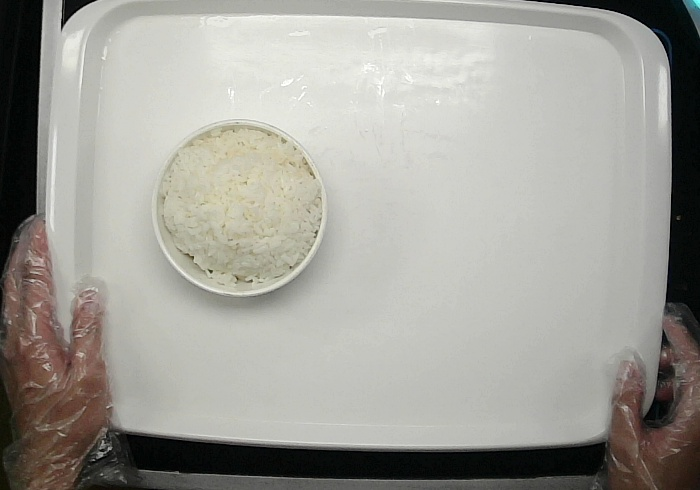HZYJPL-Fan_Wan: (151, 119, 329, 297)
